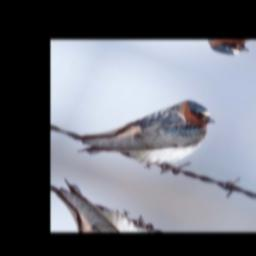Swallow: (67, 68, 219, 192)
